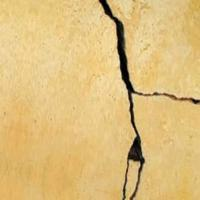crack: (85, 0, 198, 199)
